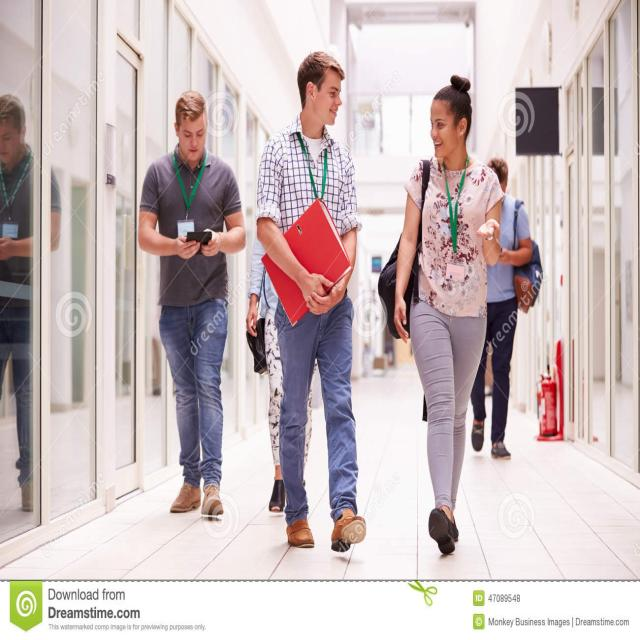body: (378, 72, 510, 555), (255, 49, 368, 554), (137, 88, 247, 518), (0, 93, 63, 516), (465, 155, 544, 460), (247, 214, 319, 516)
